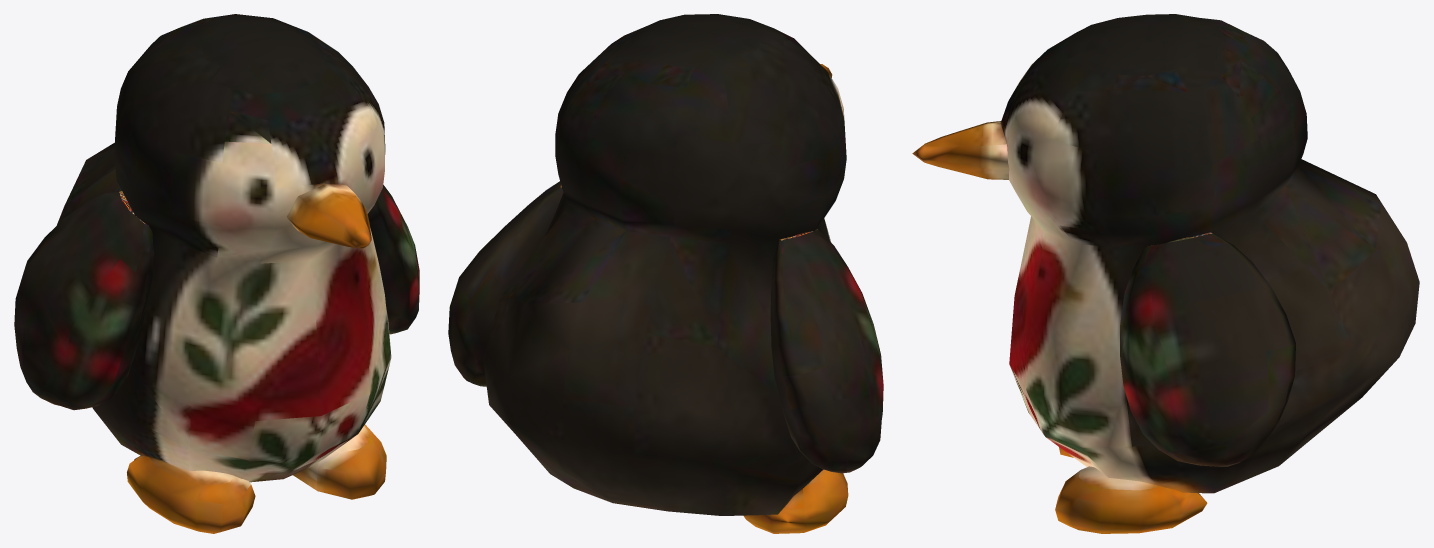
File: penguin-01-41-bird-painted.gltf
3 renders of one model, left to right at view 1: azimuth 30°, elevation 25°; view 2: azimuth 150°, elevation 25°; view 3: azimuth 270°, elevation 25°, orthographic. The views are drawn at different scales.
Parts seen in each view (by area): view 1: penguin-01-41-bird-painted; view 2: penguin-01-41-bird-painted; view 3: penguin-01-41-bird-painted.
Part boxes in pixels (left/top/right/bottom): penguin-01-41-bird-painted: left=14, top=14, right=419, bottom=533; penguin-01-41-bird-painted: left=448, top=14, right=883, bottom=533; penguin-01-41-bird-painted: left=912, top=14, right=1419, bottom=533.
Bounding box in the file's own units: 0.2 × 0.2225 × 0.2235.
Materials: 1 (1 with a texture image).
